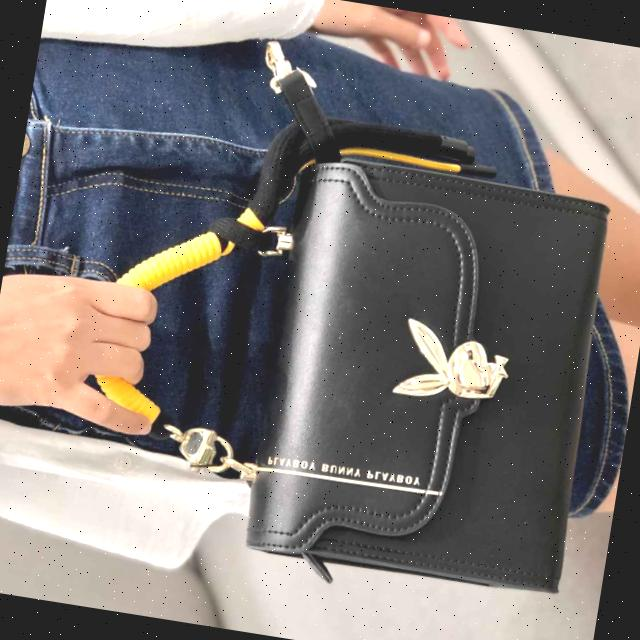Handbag: (229, 116, 640, 627)
